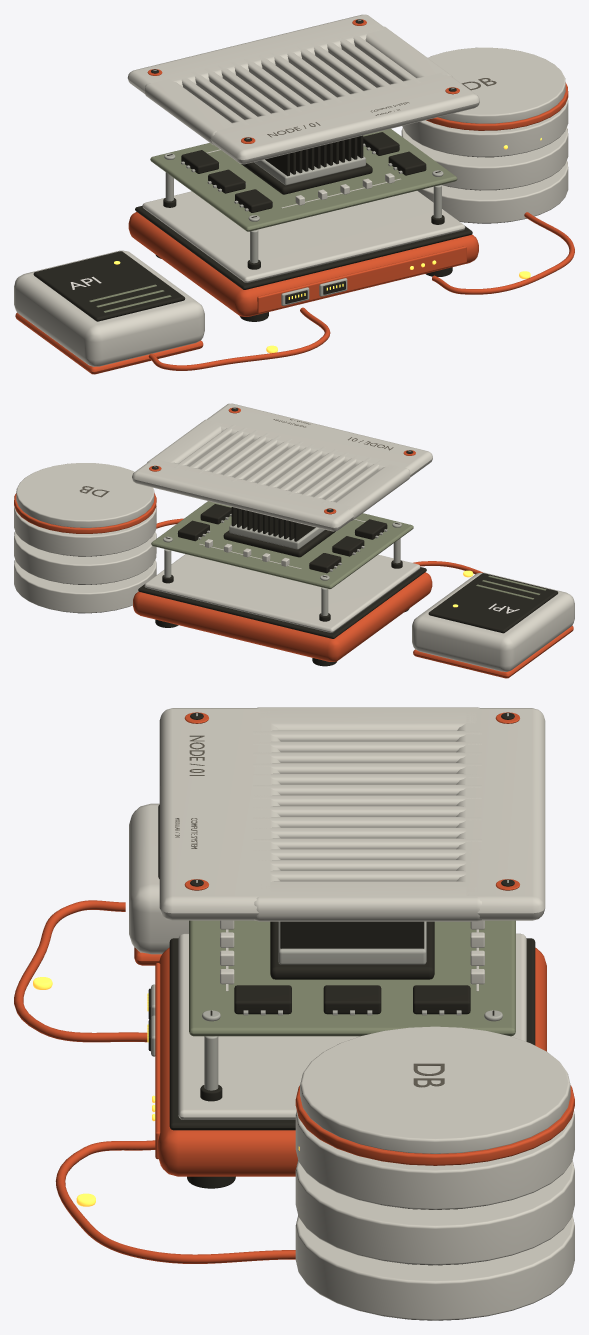
The model's file is backend-node.glb.
3 views of the same model, one above another, from view 1: azimuth 30°, elevation 25°; view 2: azimuth 150°, elevation 25°; view 3: azimuth 270°, elevation 25° (orthographic). The views are drawn at different scales.
Parts seen in each view (by area): view 1: Chassis top inset, Lid leading section, API gateway chassis, Olive circuit substrate, Database top, Lower perimeter chassis, API inset face, Lid trailing section, Database storage layer.001, Database storage layer, Database storage layer.002, Front fascia (+28 smaller); view 2: Chassis top inset, Lower perimeter chassis, Database top, API gateway chassis, Olive circuit substrate, Lid trailing section, Lid leading section, API inset face, Database storage layer.001, Database storage layer, Database storage layer.002, Lower shadow gasket (+25 smaller); view 3: Database top, Lid leading section, Olive circuit substrate, Lid trailing section, Database storage layer.001, Database storage layer, Database storage layer.002, Chassis top inset, Lower perimeter chassis, Lid right rail, API gateway chassis, Lid left rail (+26 smaller).
Part boxes in pixels (x1,y1,x2,y2): Chassis top inset: (142, 191, 465, 282); Lid leading section: (210, 72, 479, 164); API gateway chassis: (14, 250, 204, 366); Olive circuit substrate: (150, 129, 457, 231); Database top: (428, 47, 565, 123); Lower perimeter chassis: (128, 212, 478, 316); API inset face: (33, 251, 185, 321); Lid trailing section: (127, 14, 383, 93); Database storage layer.001: (401, 127, 568, 190); Database storage layer: (417, 161, 568, 223); Database storage layer.002: (402, 98, 568, 157); Front fascia: (257, 246, 466, 313); Chassis top inset: (144, 554, 420, 632); Lower perimeter chassis: (133, 572, 432, 661); Database top: (16, 463, 154, 527); API gateway chassis: (412, 572, 574, 671); Olive circuit substrate: (151, 501, 413, 589); Lid trailing section: (132, 459, 353, 531); Lid leading section: (207, 403, 432, 477); API inset face: (428, 573, 558, 633); Database storage layer.001: (14, 531, 156, 584); Database storage layer: (14, 559, 156, 613); Database storage layer.002: (14, 506, 156, 556); Lower shadow gasket: (138, 567, 426, 638); Database top: (300, 1026, 570, 1153); Lid leading section: (159, 708, 280, 920); Olive circuit substrate: (189, 920, 515, 1036); Lid trailing section: (456, 708, 545, 920); Database storage layer.001: (295, 1160, 574, 1265); Database storage layer: (295, 1215, 574, 1320); Database storage layer.002: (295, 1110, 574, 1209); Chassis top inset: (178, 933, 526, 1119); Lower perimeter chassis: (158, 947, 546, 1176); Lid right rail: (254, 881, 481, 921); API gateway chassis: (129, 803, 188, 954); Lid left rail: (257, 707, 479, 730).
Bounding box in the file's own units: 4.94 × 1.55 × 2.57.
